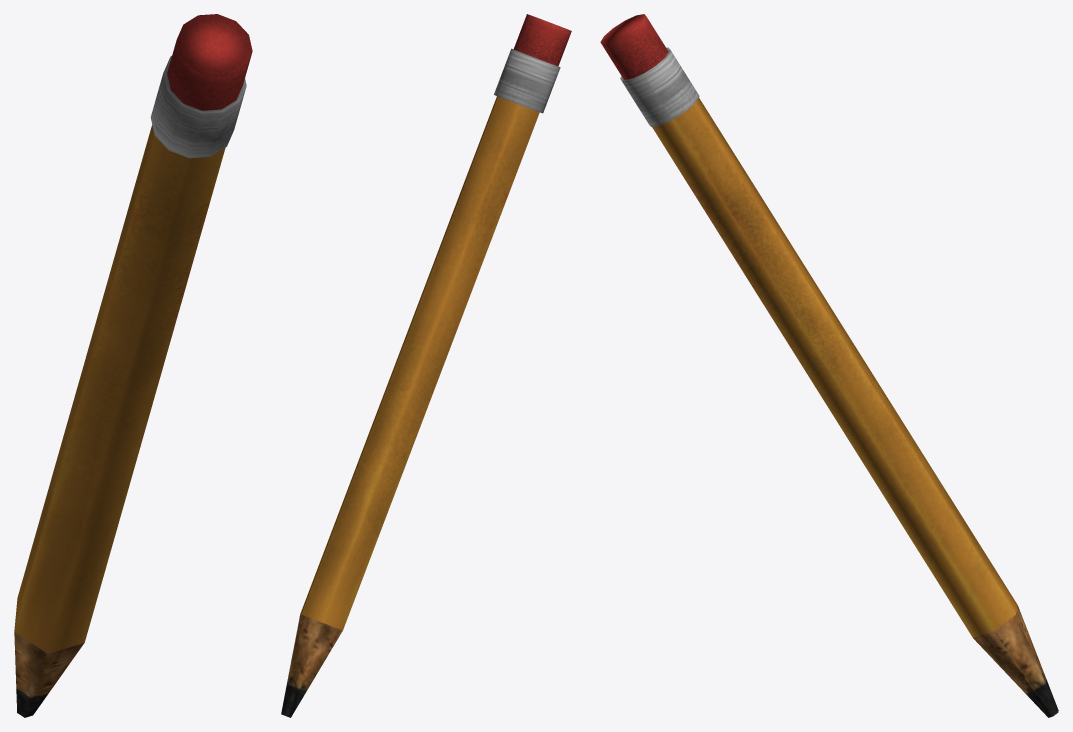
The model's file is qianbi.FBX.
3 views of the same model, side by side, from view 1: azimuth 30°, elevation 25°; view 2: azimuth 150°, elevation 25°; view 3: azimuth 270°, elevation 25° (orthographic). The views are drawn at different scales.
Parts seen in each view (by area): view 1: _QB_L5, _QB_L4, _QB_L3; view 2: _QB_L5, _QB_L3, _QB_L4; view 3: _QB_L5, _QB_L3, _QB_L4.
Part boxes in pixels (x1,y1,x2,y2): _QB_L5: (14, 125, 225, 717); _QB_L4: (167, 14, 252, 110); _QB_L3: (150, 56, 246, 158); _QB_L5: (281, 96, 539, 717); _QB_L3: (494, 48, 560, 113); _QB_L4: (513, 14, 571, 66); _QB_L5: (652, 97, 1058, 717); _QB_L3: (620, 47, 699, 126); _QB_L4: (600, 14, 668, 79).
Bounding box in the file's own units: 0.6366 × 3.37 × 2.12.
Materials: 1 (1 with a texture image).
